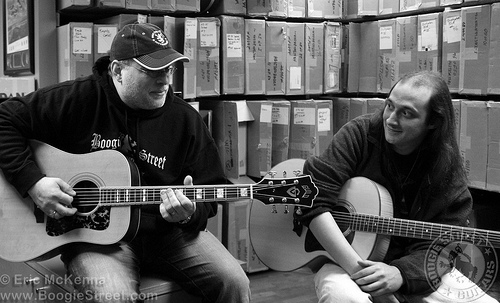guitar: (1, 141, 319, 270), (248, 157, 500, 275)
